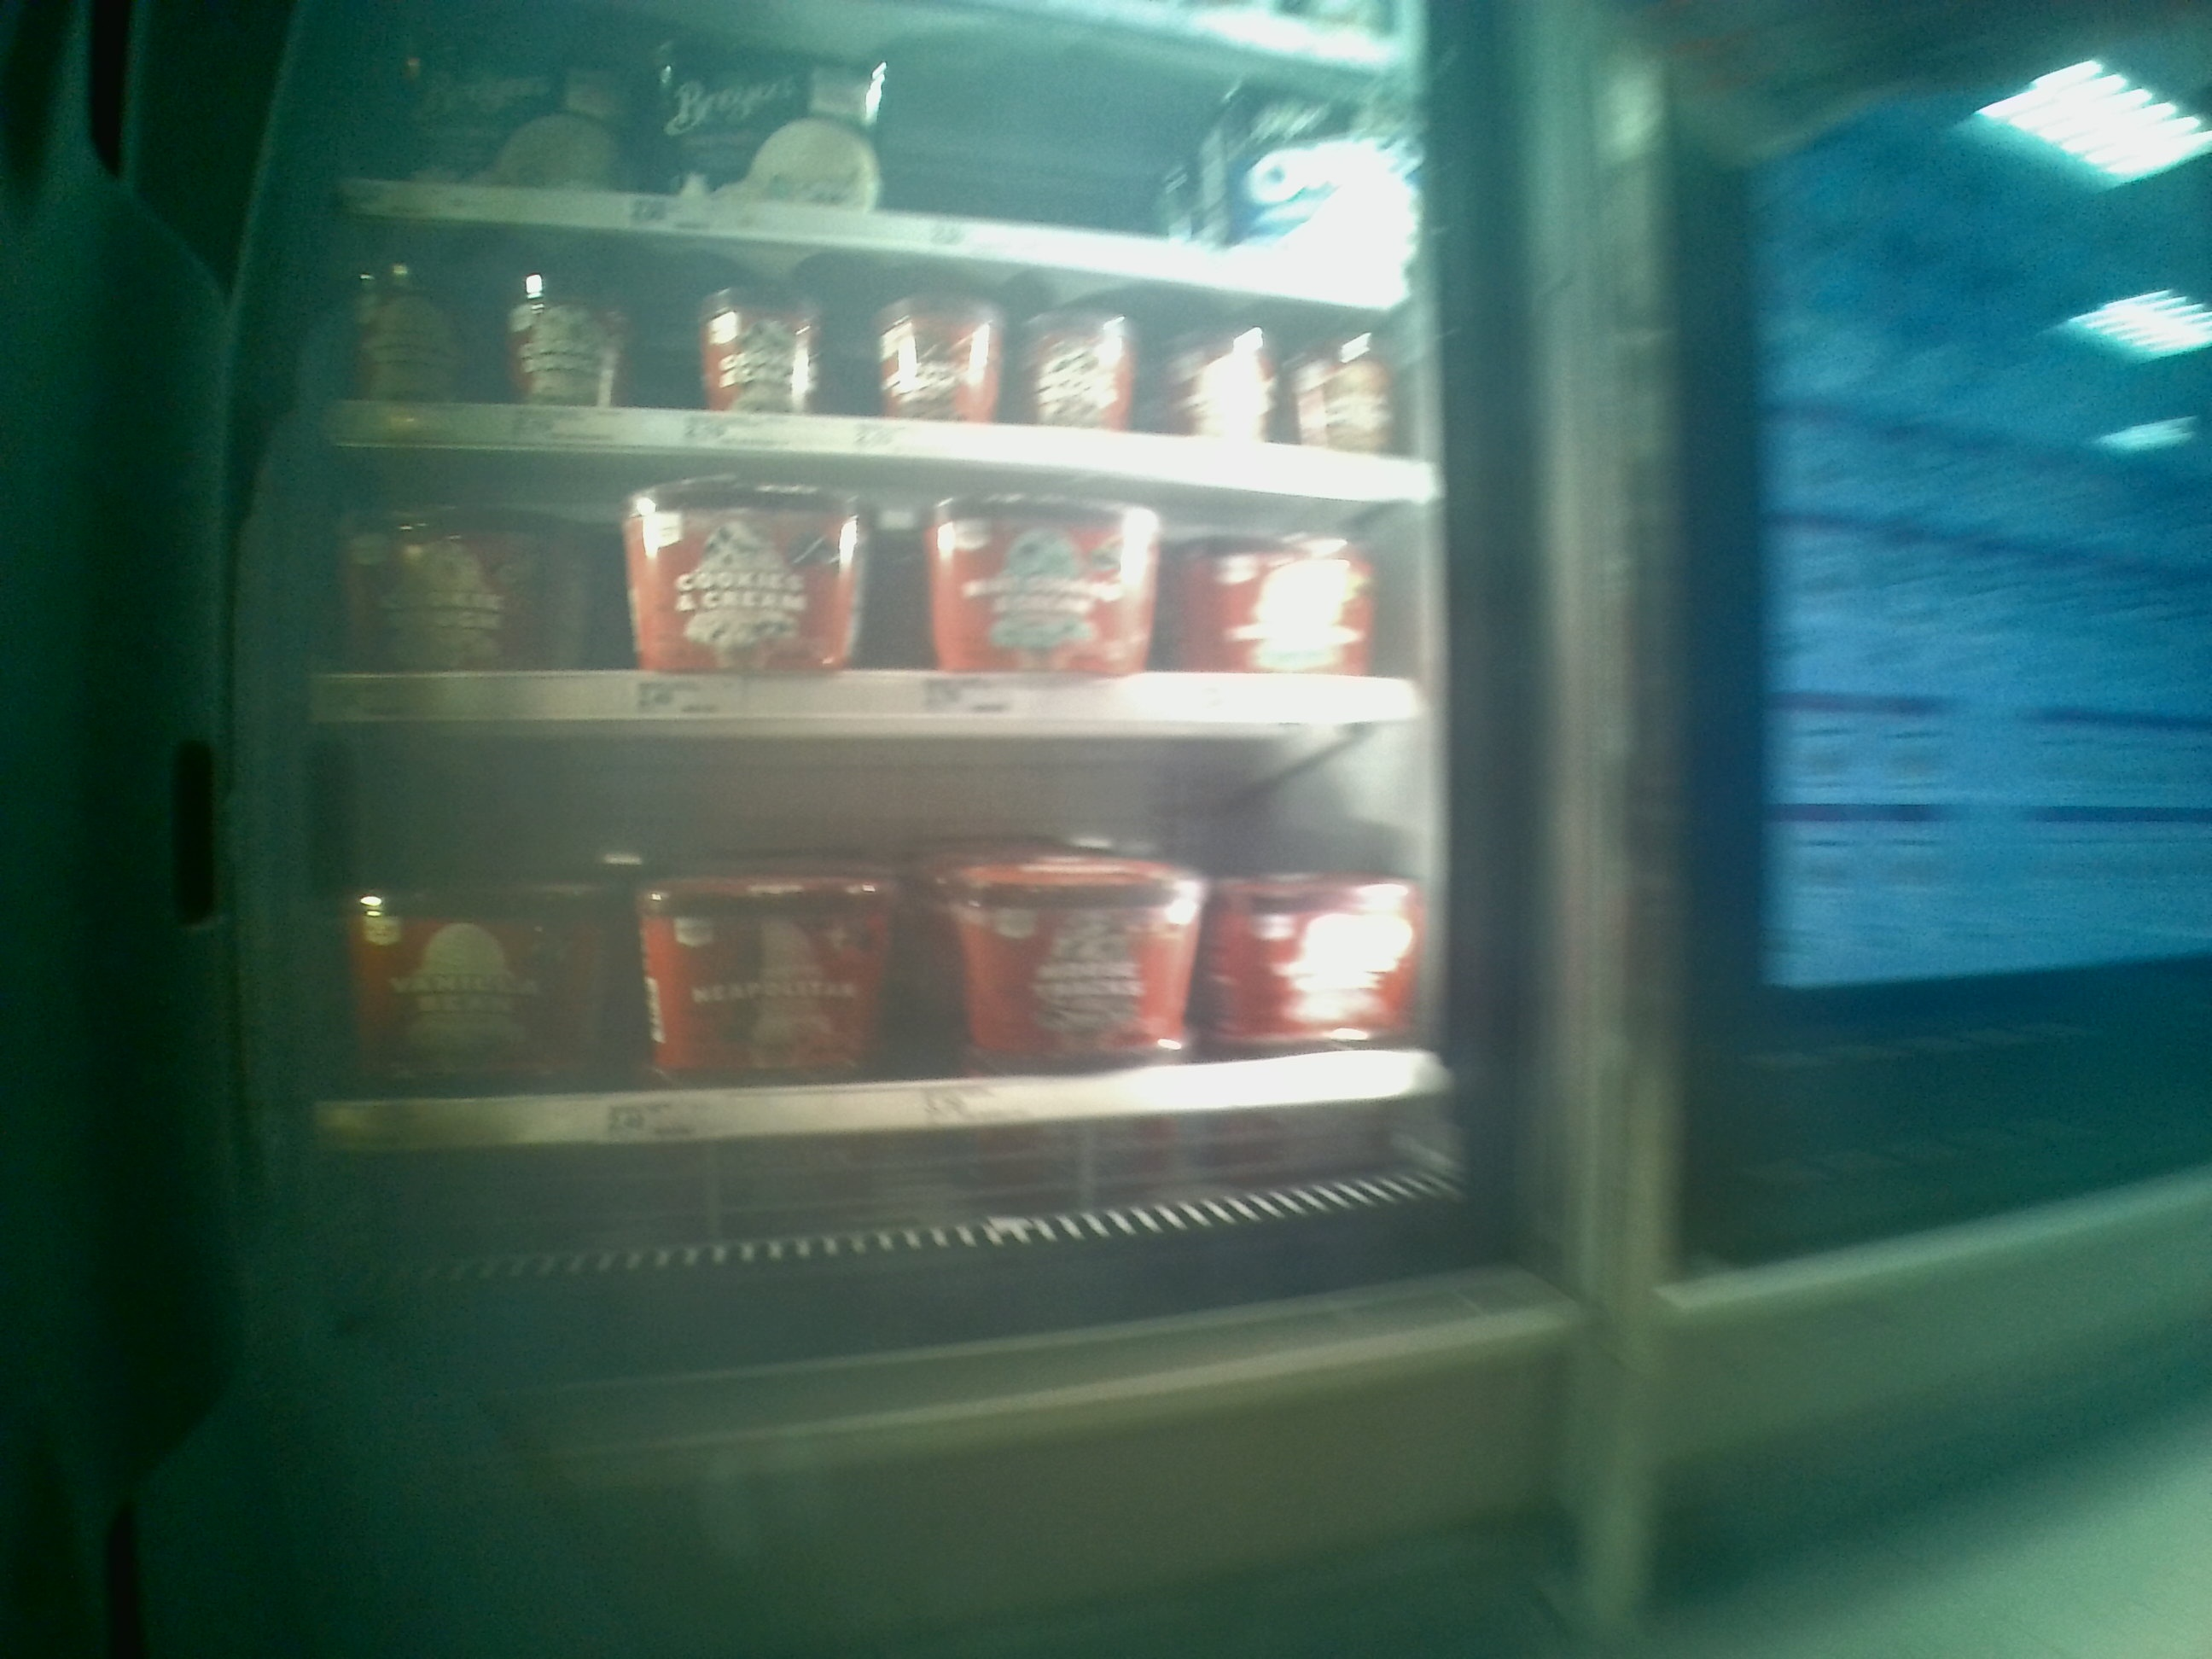shelf: (291, 734, 1453, 1134), (308, 181, 1430, 490), (294, 446, 1435, 728)
